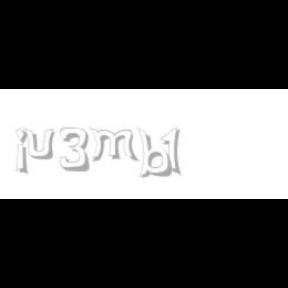1: (160, 128, 182, 176)
3: (60, 128, 91, 172)
b: (137, 128, 175, 178)
i: (15, 128, 31, 176)
m: (88, 128, 140, 162)
u: (23, 128, 58, 160)
